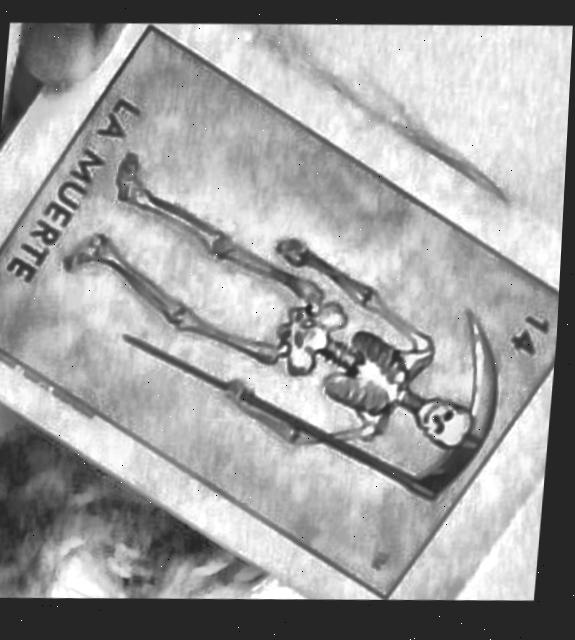La Muerte: (0, 29, 562, 601)
